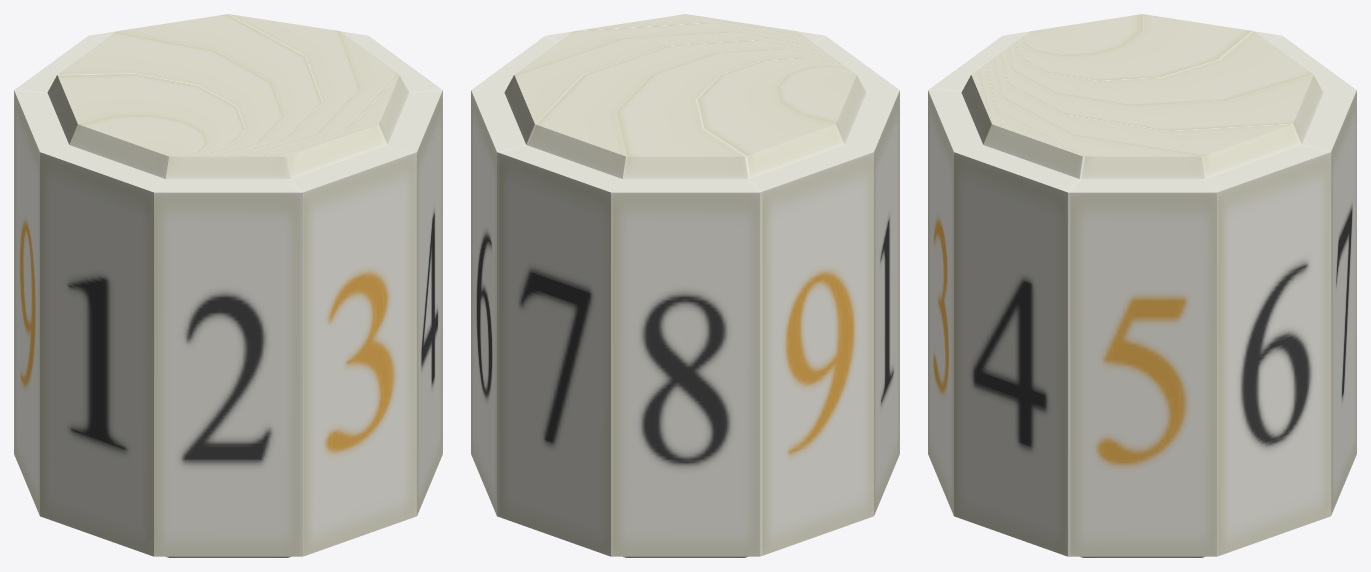
File: TheRoomDial 1.fbx
The picture shows the model from 3 angles, left to right: view 1: azimuth 30°, elevation 25°; view 2: azimuth 150°, elevation 25°; view 3: azimuth 270°, elevation 25°; orthographic projection.
Visible parts, largest first — view 1: Circle.046; view 2: Circle.046; view 3: Circle.046.
Part boxes in pixels (x1,y1,x2,y2): Circle.046: (14, 14, 442, 557); Circle.046: (471, 14, 899, 557); Circle.046: (928, 14, 1356, 557).
Bounding box in the file's own units: 17.16 × 18 × 17.42.
Materials: 1 (1 with a texture image).
